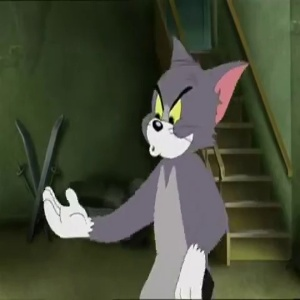Tom: (134, 33, 250, 166)
